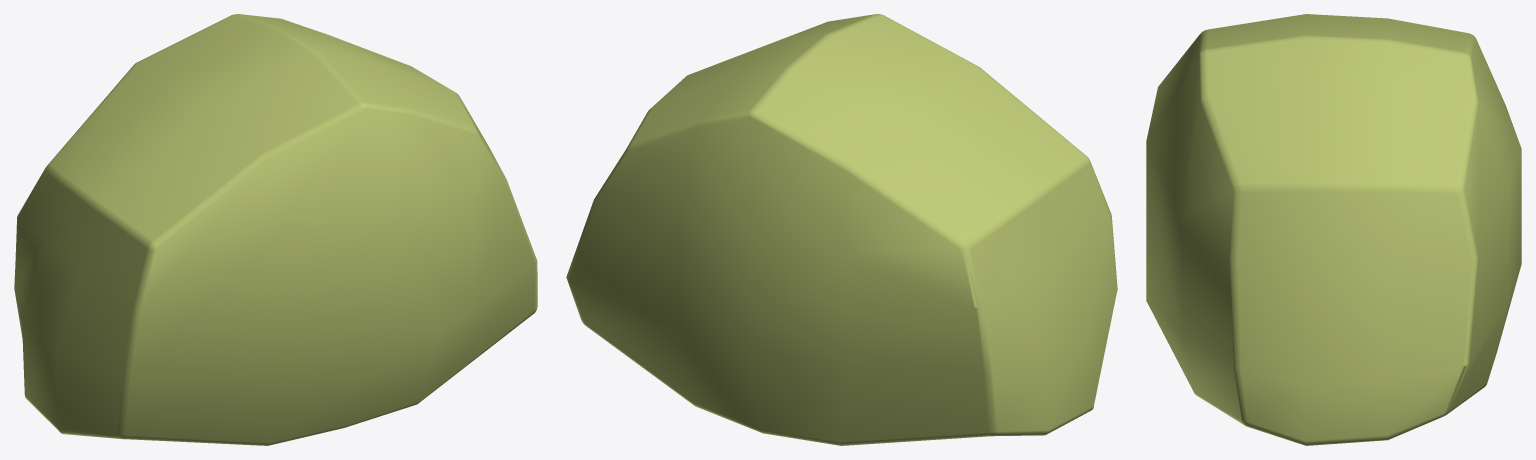
Rendered from PlantOne.fbx.
3 renders of one model, left to right at view 1: azimuth 30°, elevation 25°; view 2: azimuth 150°, elevation 25°; view 3: azimuth 270°, elevation 25°, orthographic. The views are drawn at different scales.
Parts seen in each view (by area): view 1: PlantOne; view 2: PlantOne; view 3: PlantOne.
Part boxes in pixels (box(x1,y1,x2,y2)): PlantOne: box(14, 14, 537, 445); PlantOne: box(566, 14, 1117, 445); PlantOne: box(1146, 14, 1521, 445).
Size of the model in its own units: 1.81 by 1.27 by 1.21.
